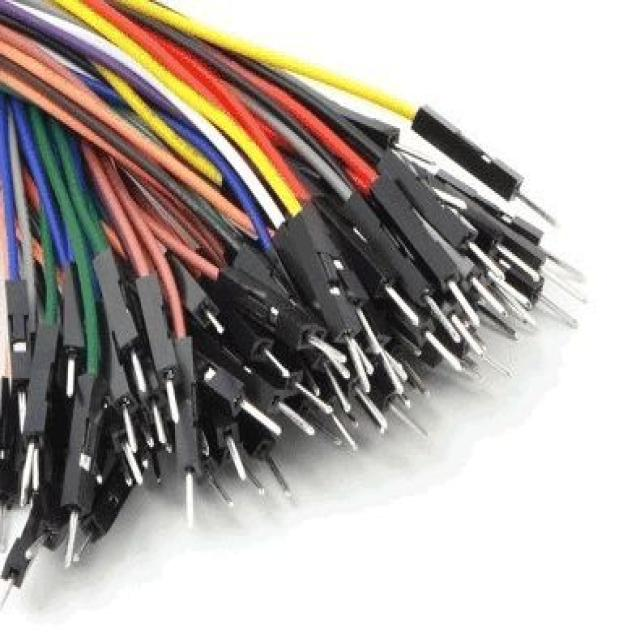Jumper Wires: (0, 1, 596, 630)
